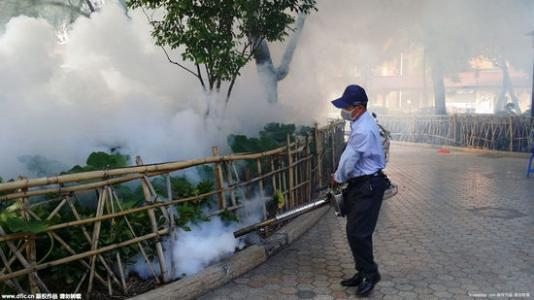smoke: (9, 17, 250, 156)
